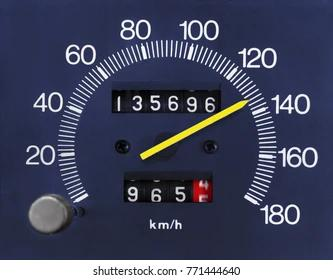odometer: (110, 88, 222, 114)
